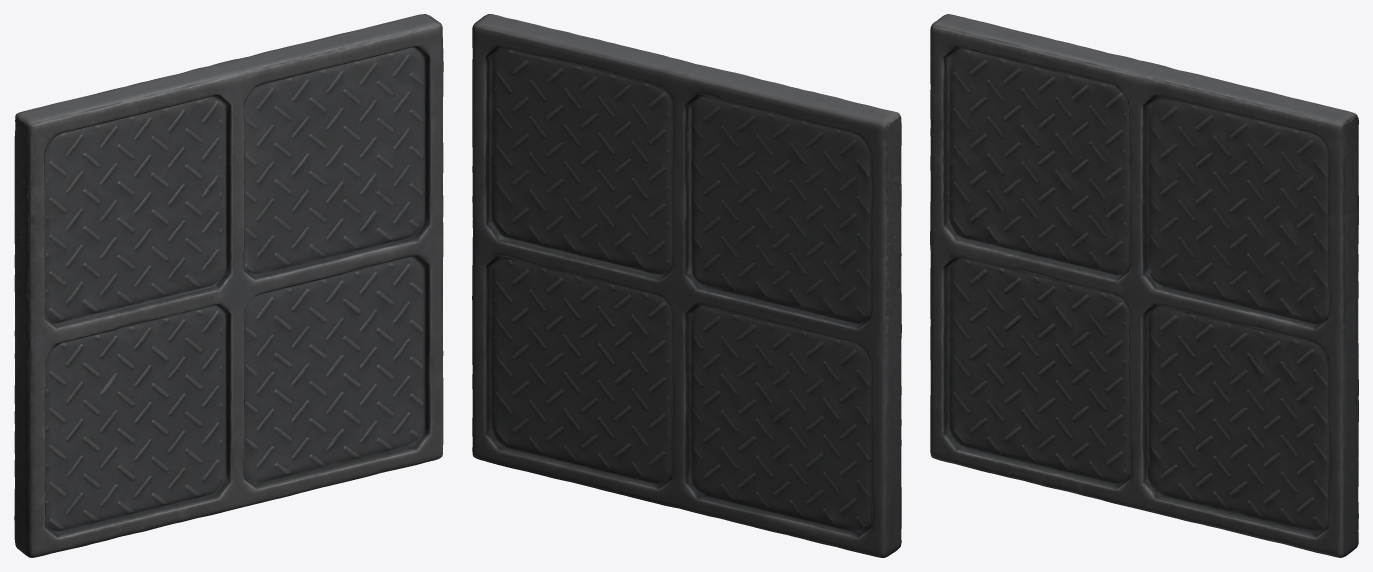
Rendered from metal_diamond_plate_3d_model.fbx.
The picture shows the model from 3 angles, left to right: view 1: azimuth 30°, elevation 25°; view 2: azimuth 150°, elevation 25°; view 3: azimuth 330°, elevation 25°; orthographic projection.
Parts seen in each view (by area): view 1: tripo_node_b85076c5; view 2: tripo_node_b85076c5; view 3: tripo_node_b85076c5.
Boxes of the visible parts, x1,y1,x2,y2 form: tripo_node_b85076c5: [14, 14, 443, 557]; tripo_node_b85076c5: [472, 14, 901, 557]; tripo_node_b85076c5: [930, 14, 1358, 557].
Bounding box in the file's own units: 97.68 × 98.07 × 7.52.
1 material, 1 textured.
